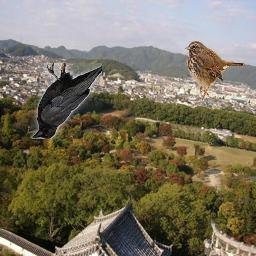Crow: (30, 63, 102, 139)
Sparrow: (184, 41, 244, 102)
